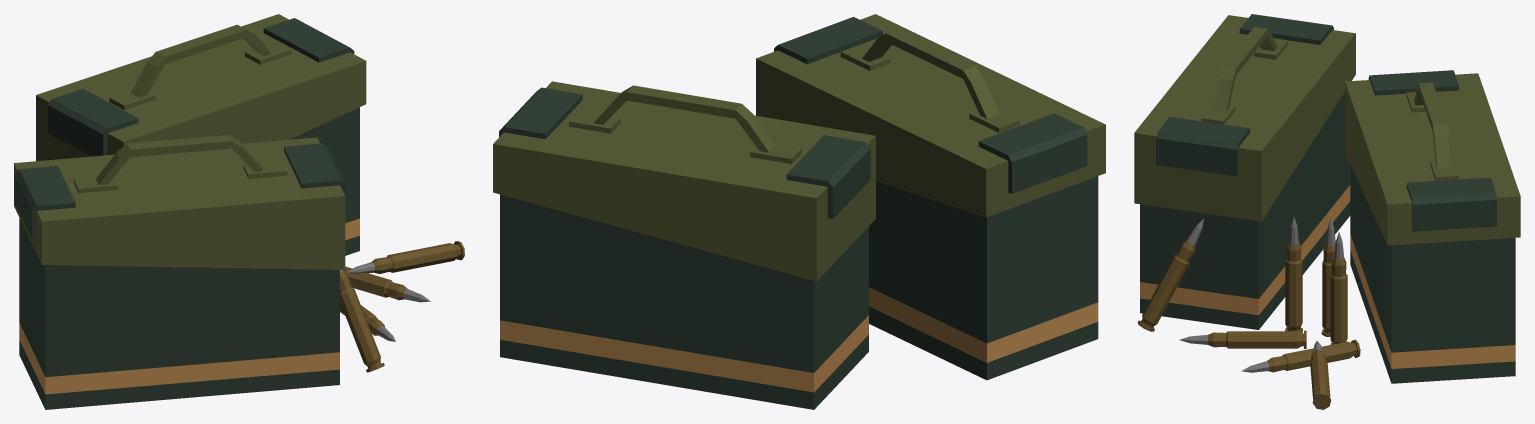
Rendered from SM_Ammo_Box_04.glb.
3 views of the same model, side by side, from view 1: azimuth 30°, elevation 25°; view 2: azimuth 150°, elevation 25°; view 3: azimuth 270°, elevation 25° (orthographic). The views are drawn at different scales.
Parts seen in each view (by area): view 1: SM_Ammo_Box_04; view 2: SM_Ammo_Box_04; view 3: SM_Ammo_Box_04.
Boxes of the visible parts, x1,y1,x2,y2 form: SM_Ammo_Box_04: (14, 14, 464, 409); SM_Ammo_Box_04: (493, 14, 1105, 409); SM_Ammo_Box_04: (1134, 14, 1520, 409).
Size of the model in its own units: 0.5927 by 0.2758 by 0.4458.
Materials: 1 (1 with a texture image).
